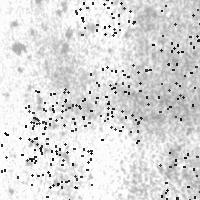pitted_surface: (1, 3, 198, 198), (28, 102, 87, 162), (25, 88, 83, 148), (89, 64, 149, 121), (82, 85, 137, 142), (139, 63, 195, 118), (31, 149, 91, 199), (152, 5, 200, 63), (0, 125, 44, 176), (73, 0, 133, 34), (159, 152, 200, 200)
